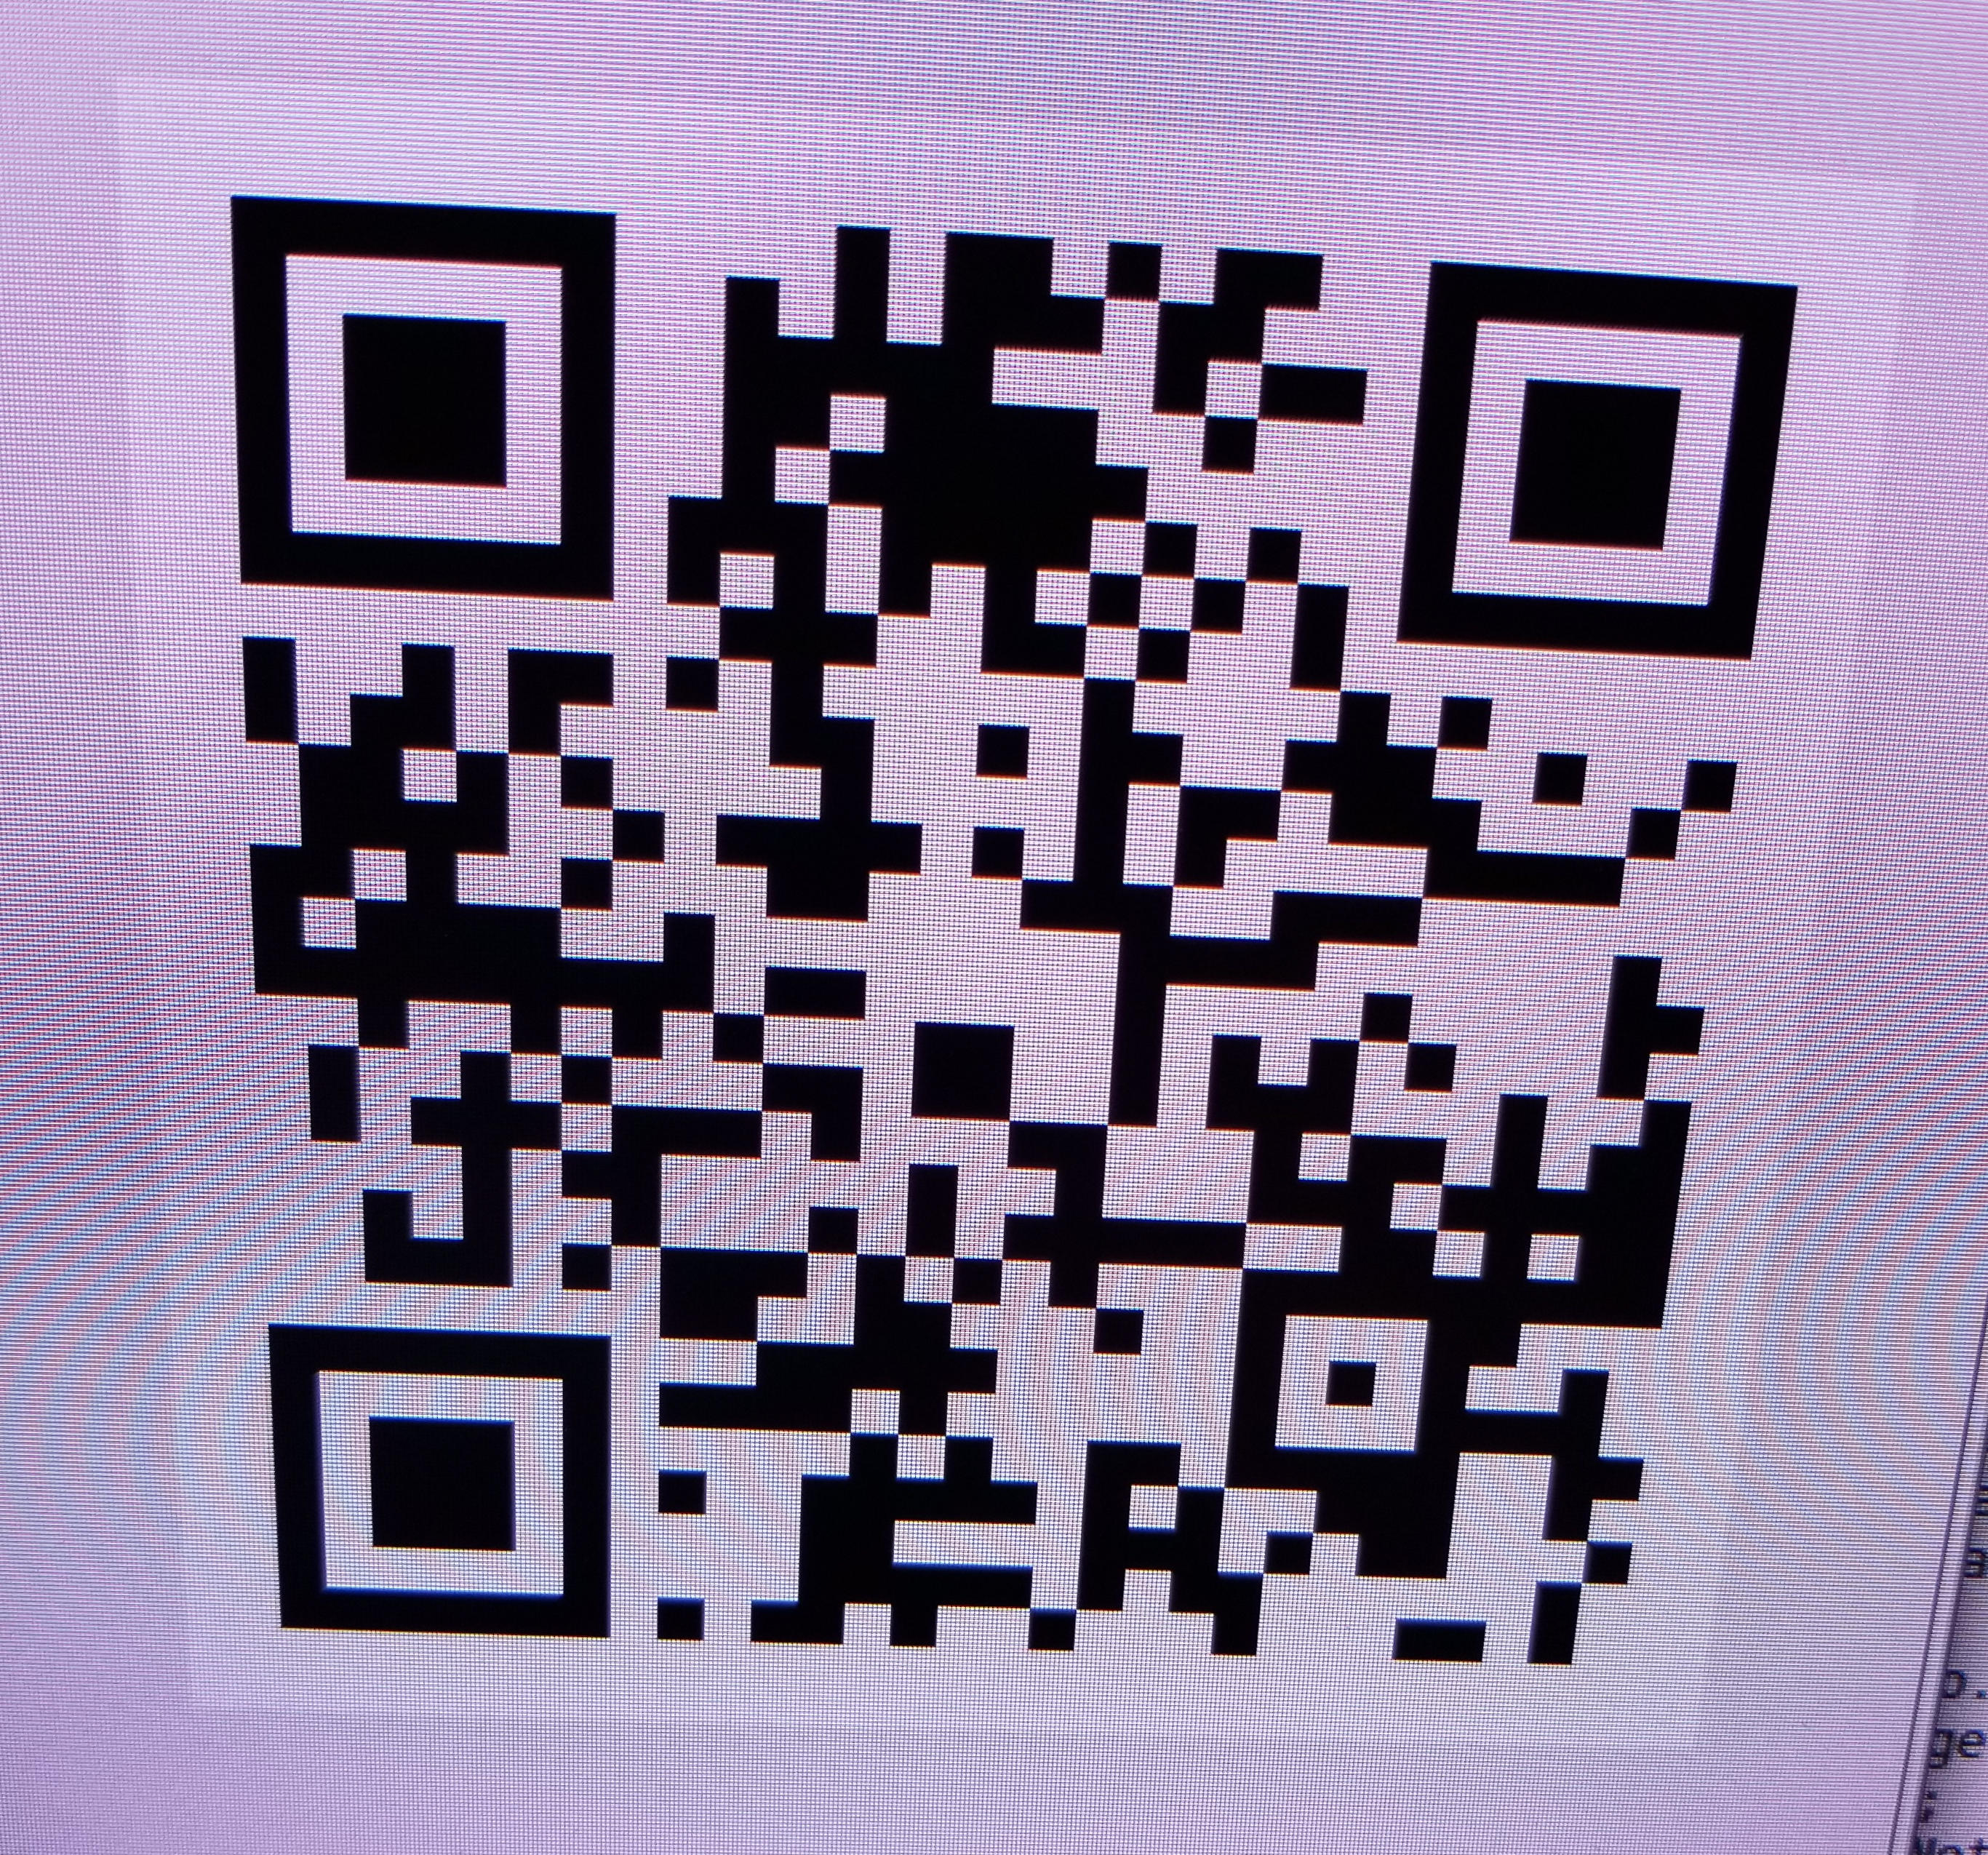QR_CODE: (131, 110, 1835, 1719)
